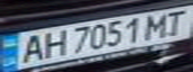0: (87, 20, 109, 51)
1: (121, 16, 145, 43)
5: (106, 17, 127, 47)
7: (66, 25, 90, 54)
A: (15, 31, 51, 64)
H: (36, 28, 69, 60)
M: (139, 11, 175, 39)
T: (160, 7, 193, 36)
